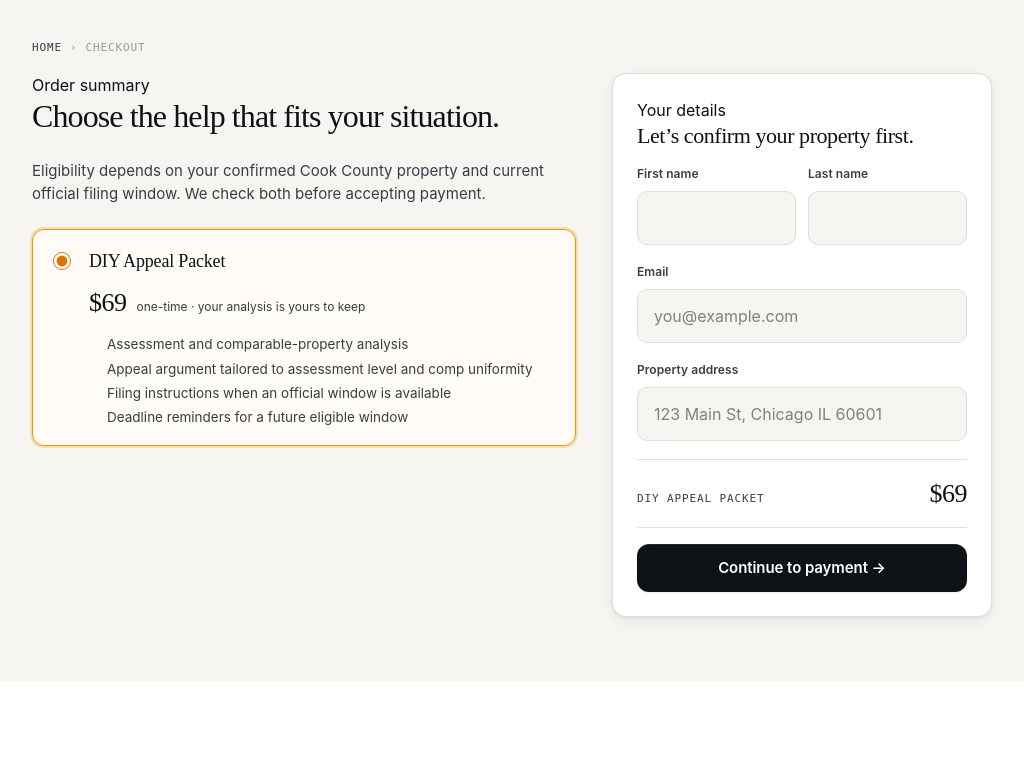
begin_checkout from the real checkout page › ignores further submits after the hand-off to Stripe, and treats the next submit after a back-forward restore as a fresh intent
Later steps or results of the test are not shown.
In the field labelled "First name": (716, 218) [637,191,796,245], type "Buyer"
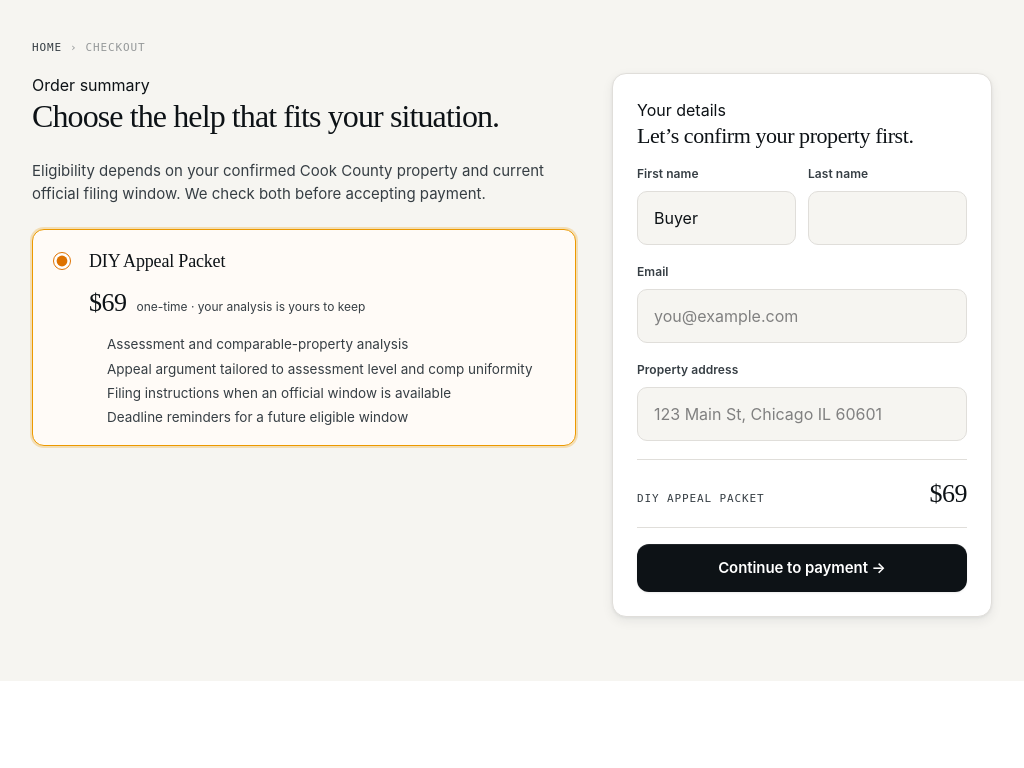
In the field labelled "Last name": (888, 218) [808,191,967,245], type "Example"
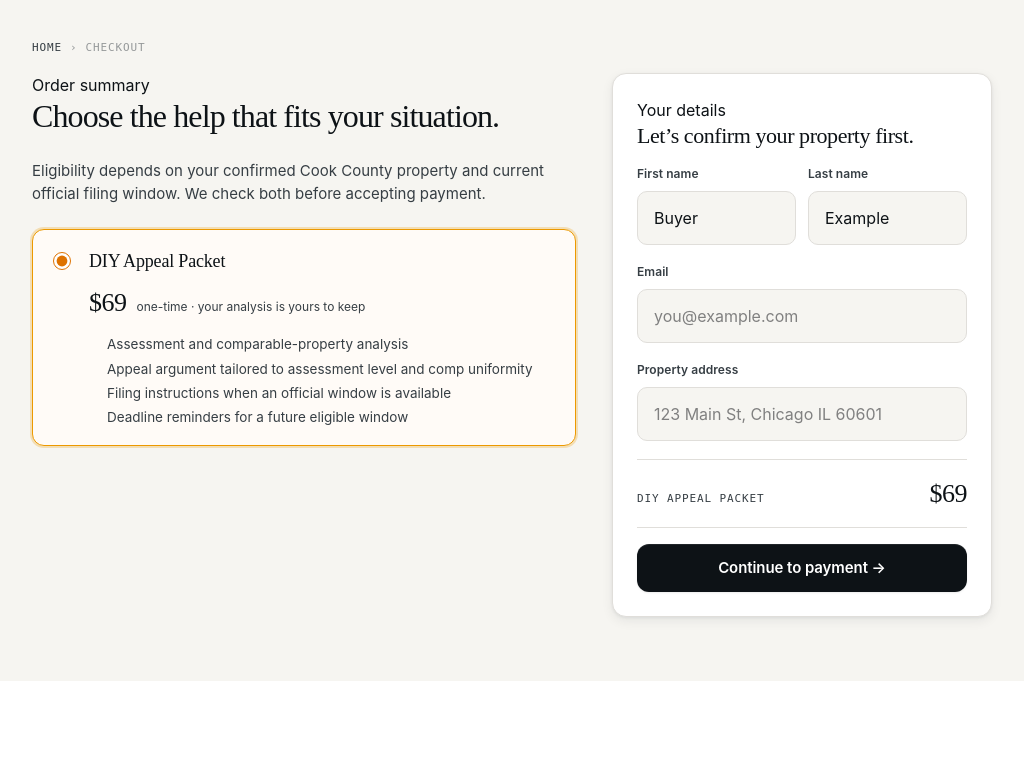
In the field labelled "Email": (802, 316) [637,289,967,343], type "buyer@example.com"
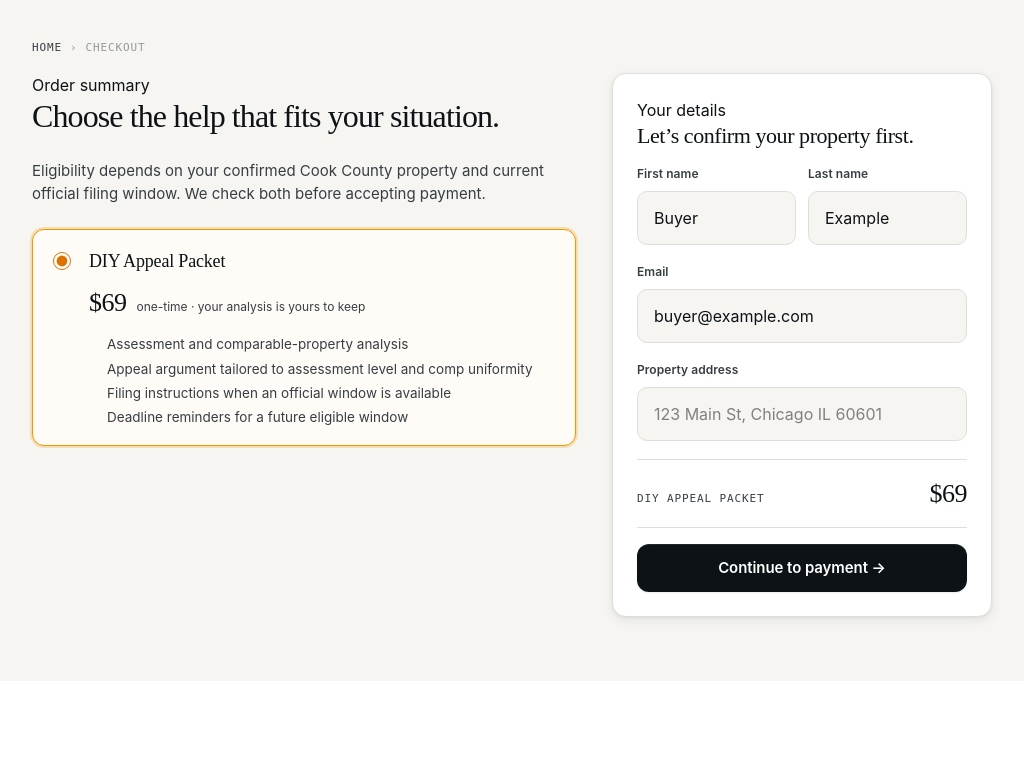
In the field labelled "Property address": (802, 414) [637,387,967,441], type "2834 W Henderson St, Chicago IL 60618"
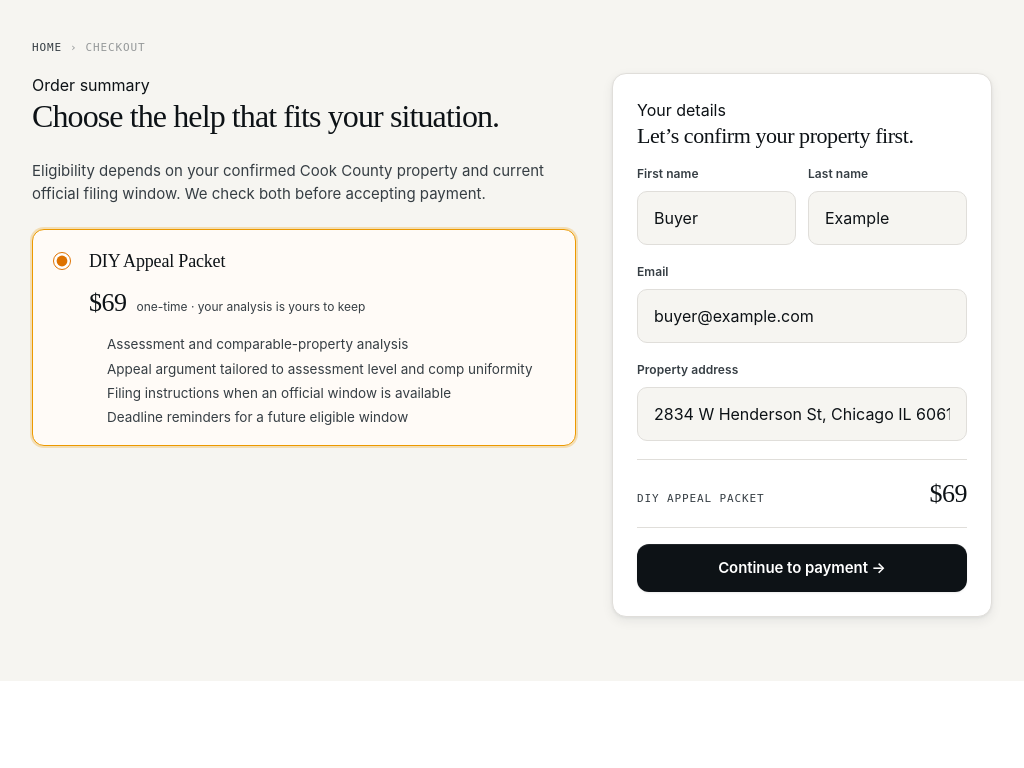
Click the button "Continue to payment →": (802, 568) [637,544,967,592]
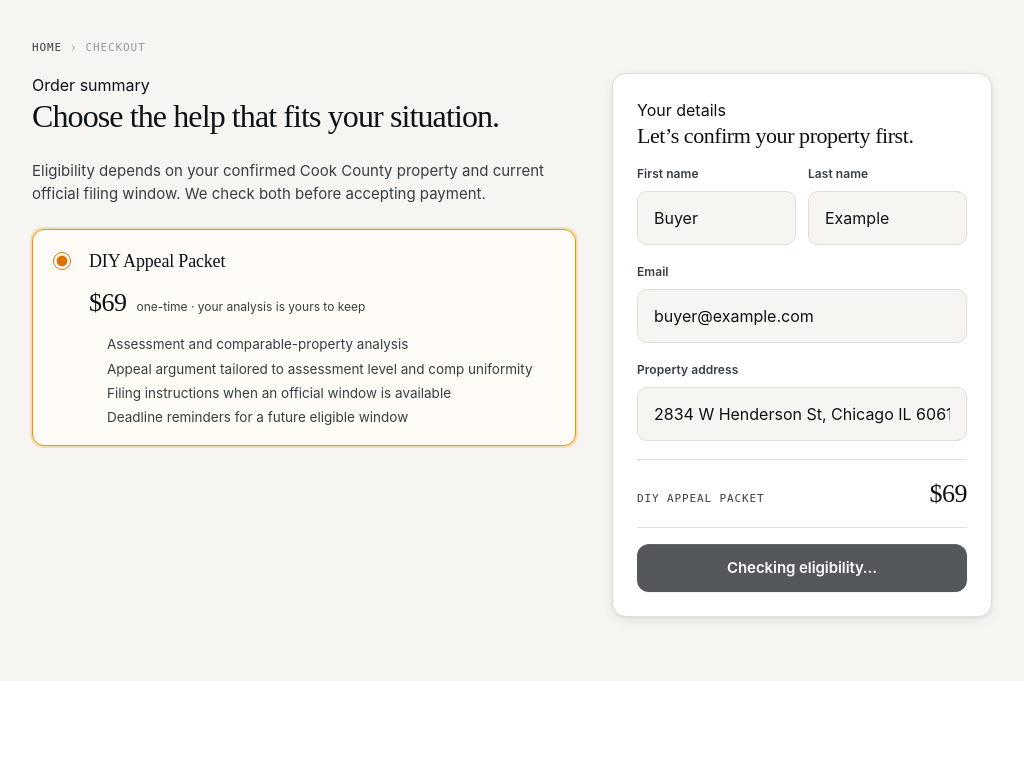
Submit the form with class "ot-checkout-form", box [637,165,967,592]
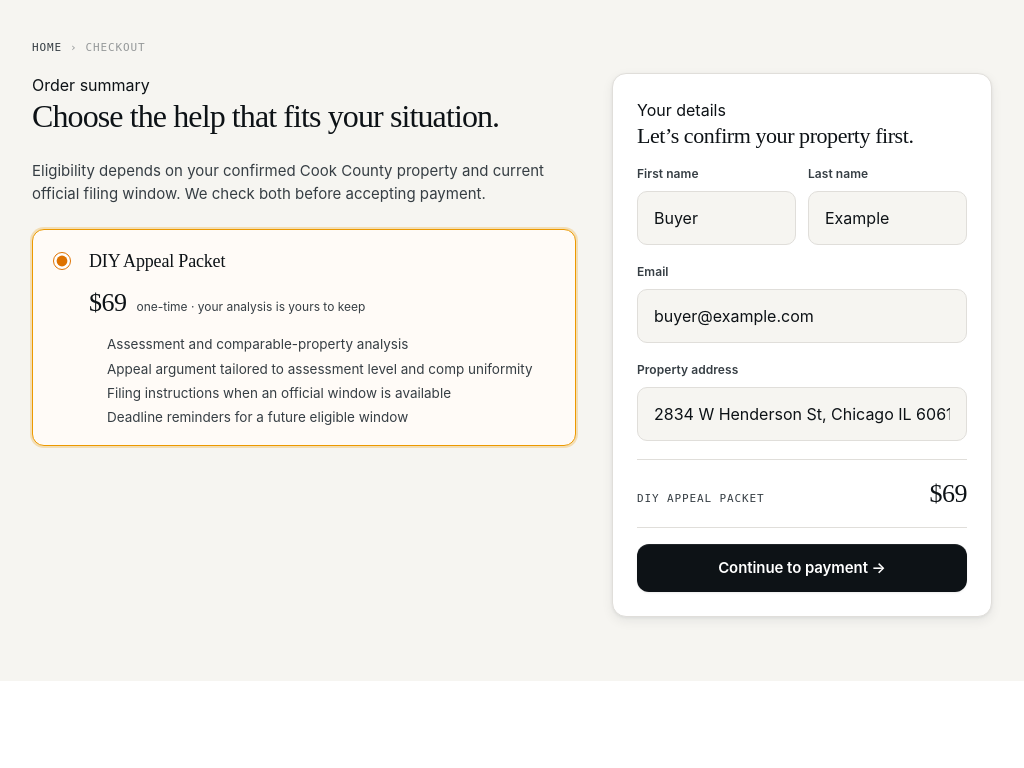
Expected: the button "Continue to payment →" is enabled, [637,544,967,592]
